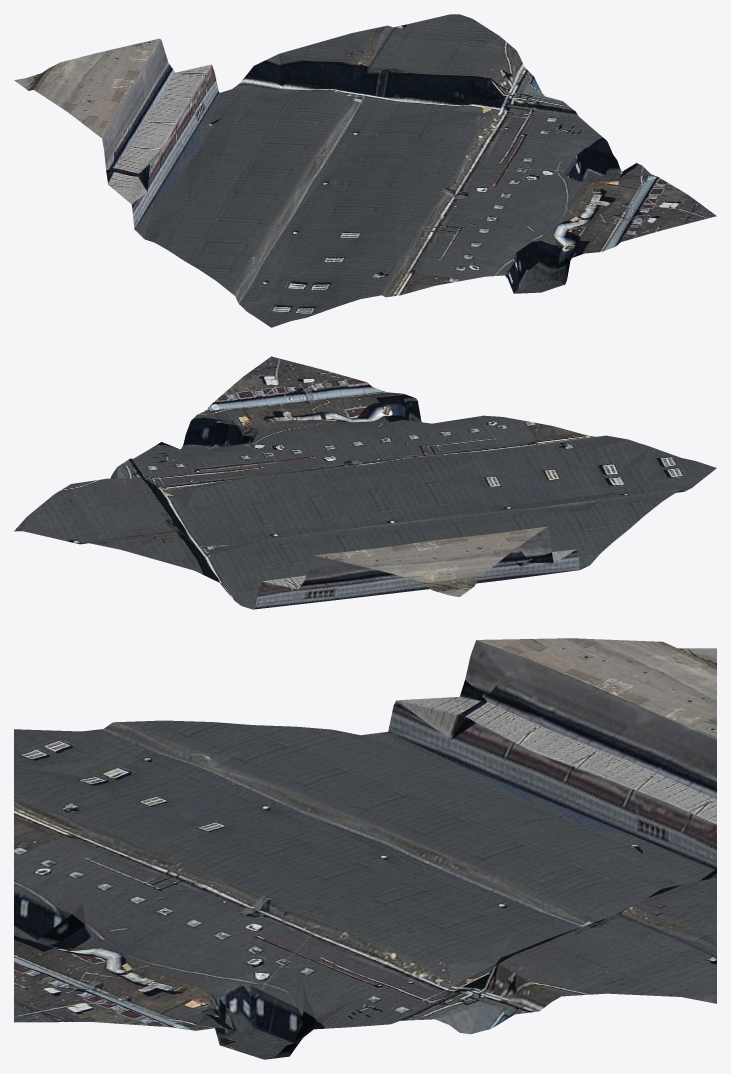
The model's file is map_15_8181_13784.dae.
The picture shows the model from 3 angles, top to bottom: view 1: azimuth 30°, elevation 25°; view 2: azimuth 150°, elevation 25°; view 3: azimuth 270°, elevation 25°; orthographic projection. The views are drawn at different scales.
Parts seen in each view (by area): view 1: Ter0; view 2: Ter0; view 3: Ter0.
Boxes of the visible parts, x1=… form: Ter0: x1=14, y1=14, x2=716, y2=327; Ter0: x1=14, y1=356, x2=716, y2=609; Ter0: x1=14, y1=638, x2=716, y2=1059.
Bounding box in the file's own units: 63.87 × 63.88 × 13.32.
Materials: 3 (3 with a texture image).
